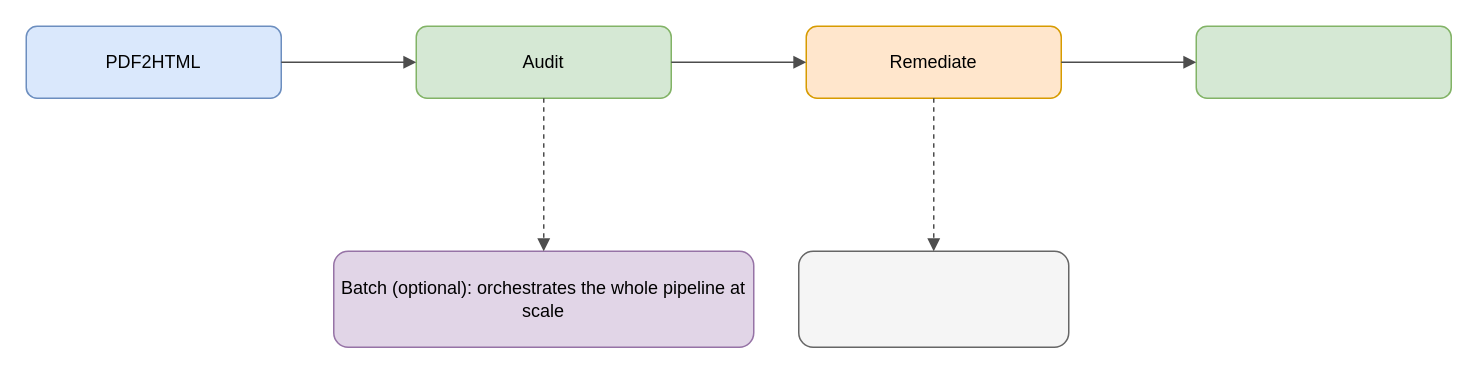
Some shapes in this 1478 by 374 pixel diagram are drawn without their labels. The shapes that lost their labels are listed below. From the top down, each one's centre as x and y in pixels, then its label:
At point 1323,61: "Accessible HTML".
At point 933,298: "Agent (optional): render → fix → verify".
